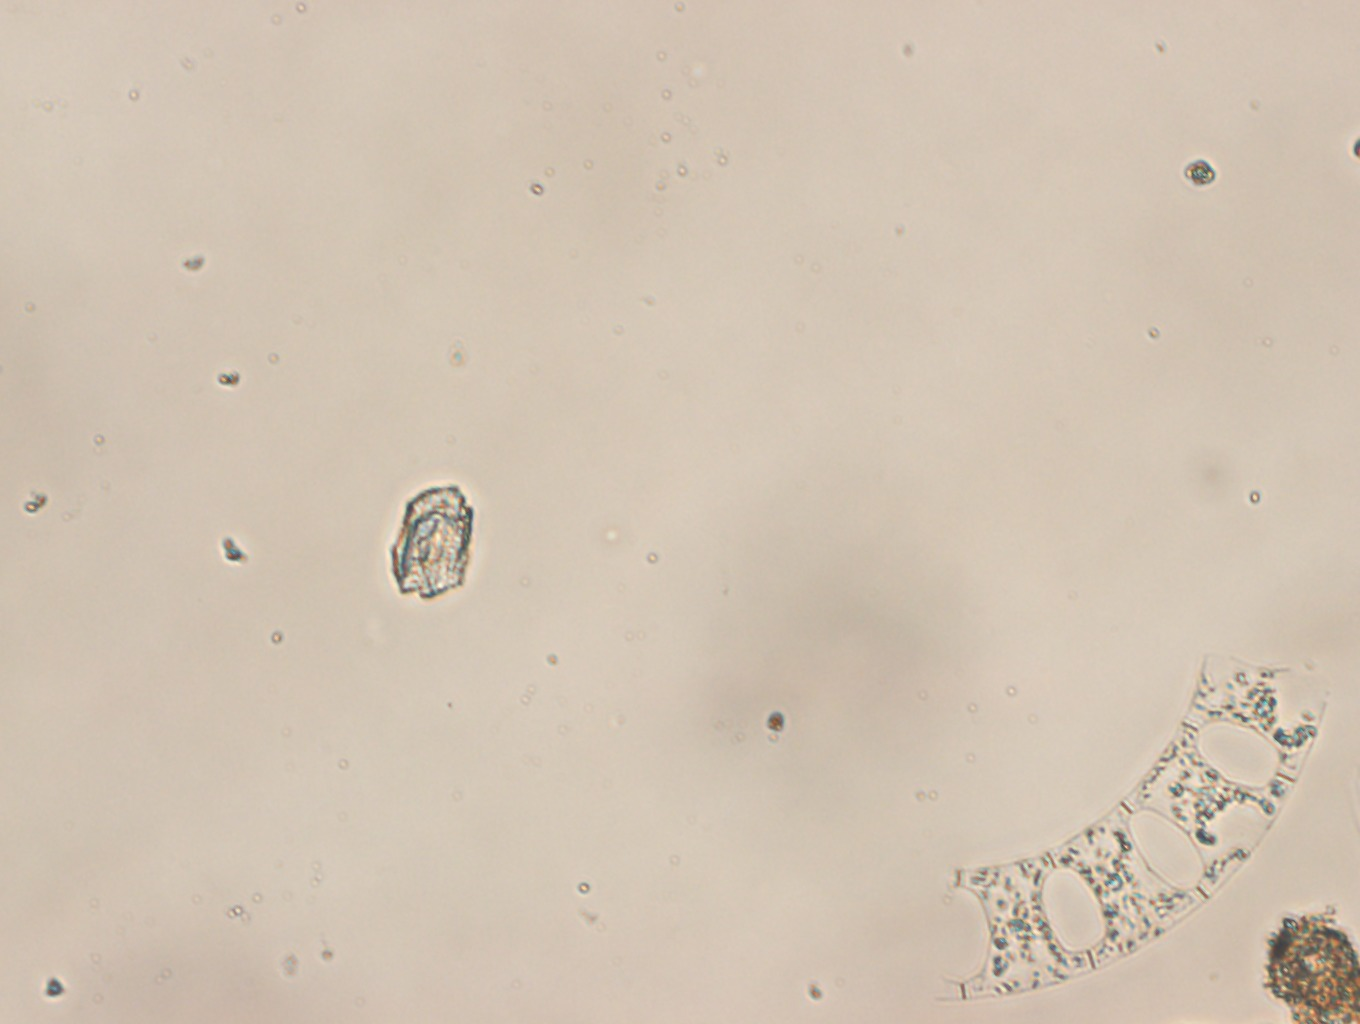eucampia: (916, 655, 1335, 1002)
